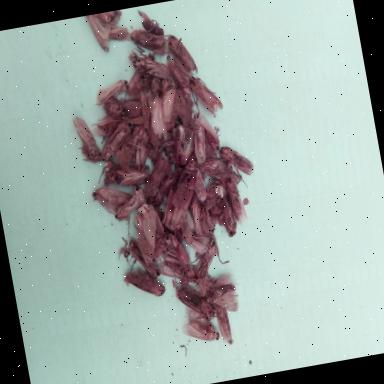pbw: (164, 210, 213, 260), (86, 9, 134, 55), (132, 202, 164, 264), (174, 280, 219, 324), (178, 301, 222, 346), (71, 113, 106, 166), (158, 245, 201, 288), (188, 70, 225, 118), (128, 44, 172, 84), (90, 182, 136, 219), (167, 31, 200, 82), (203, 272, 240, 316), (127, 234, 162, 280), (218, 140, 256, 182), (128, 22, 172, 58), (170, 120, 202, 168), (124, 266, 166, 302), (144, 86, 170, 144), (95, 122, 134, 160), (140, 158, 172, 203), (192, 238, 226, 280), (155, 80, 184, 128), (128, 123, 156, 172), (90, 76, 132, 108), (188, 108, 211, 164), (193, 109, 221, 154), (225, 174, 248, 226), (162, 230, 193, 268), (111, 190, 148, 220), (107, 162, 152, 186), (198, 152, 232, 180), (187, 188, 206, 236), (136, 7, 164, 37), (120, 124, 144, 156), (101, 96, 129, 122), (216, 306, 234, 346), (222, 200, 240, 238), (214, 169, 246, 190), (133, 180, 152, 215), (151, 208, 167, 240)
